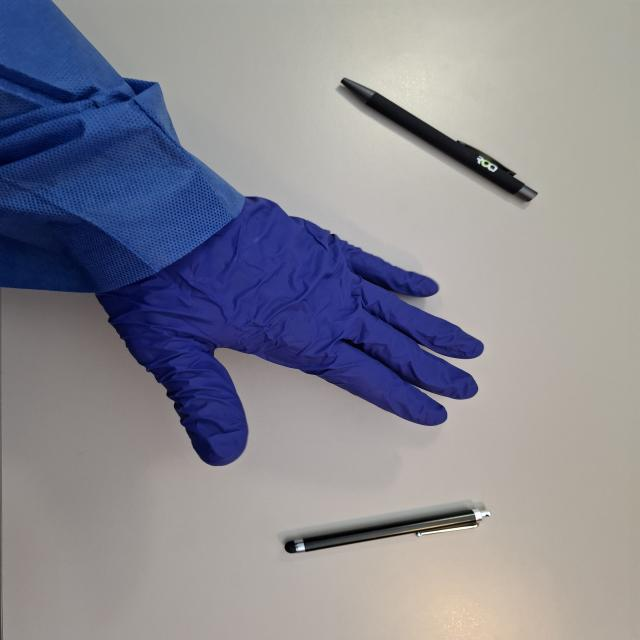glove_on: (91, 195, 487, 468)
